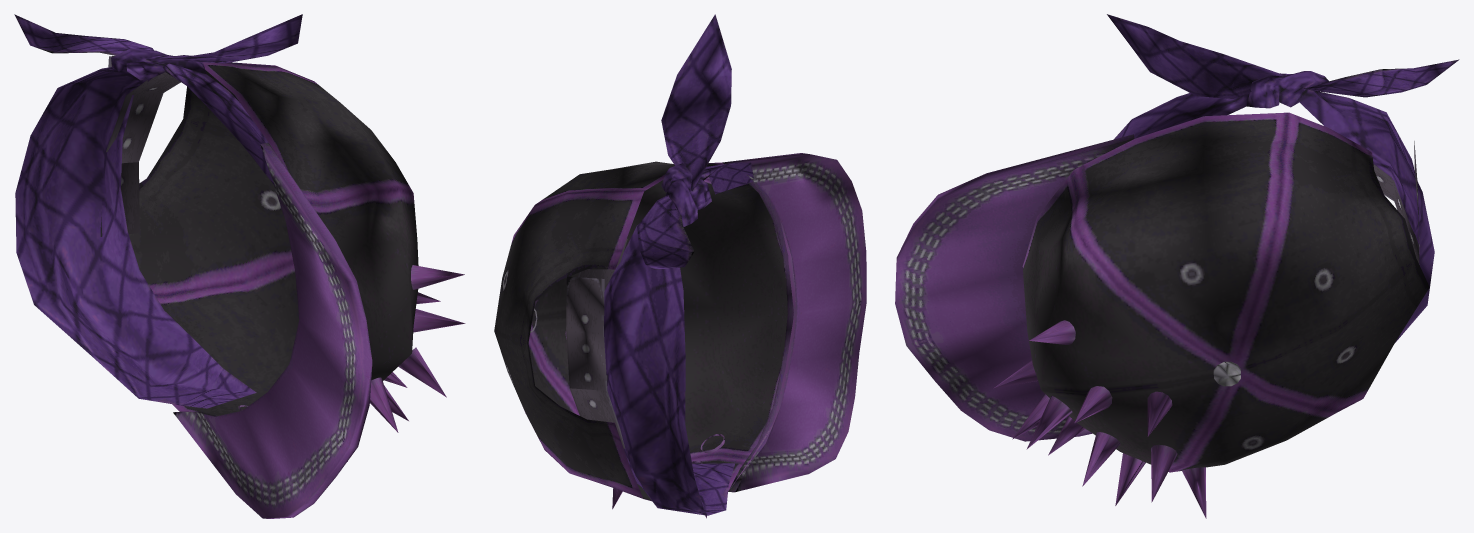
File: M_SpikedHat.fbx
3 renders of one model, left to right at view 1: azimuth 30°, elevation 25°; view 2: azimuth 150°, elevation 25°; view 3: azimuth 270°, elevation 25°, orthographic.
Parts seen in each view (by area): view 1: spikedhat.001; view 2: spikedhat.001; view 3: spikedhat.001.
Part boxes in pixels (left/top/right/bottom): spikedhat.001: left=14, top=14, right=465, bottom=518; spikedhat.001: left=494, top=14, right=866, bottom=518; spikedhat.001: left=895, top=14, right=1459, bottom=518.
Size of the model in its own units: 0.1228 by 0.1905 by 0.2038.
